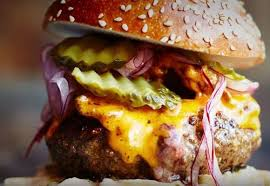hamburger: (38, 1, 268, 183)
